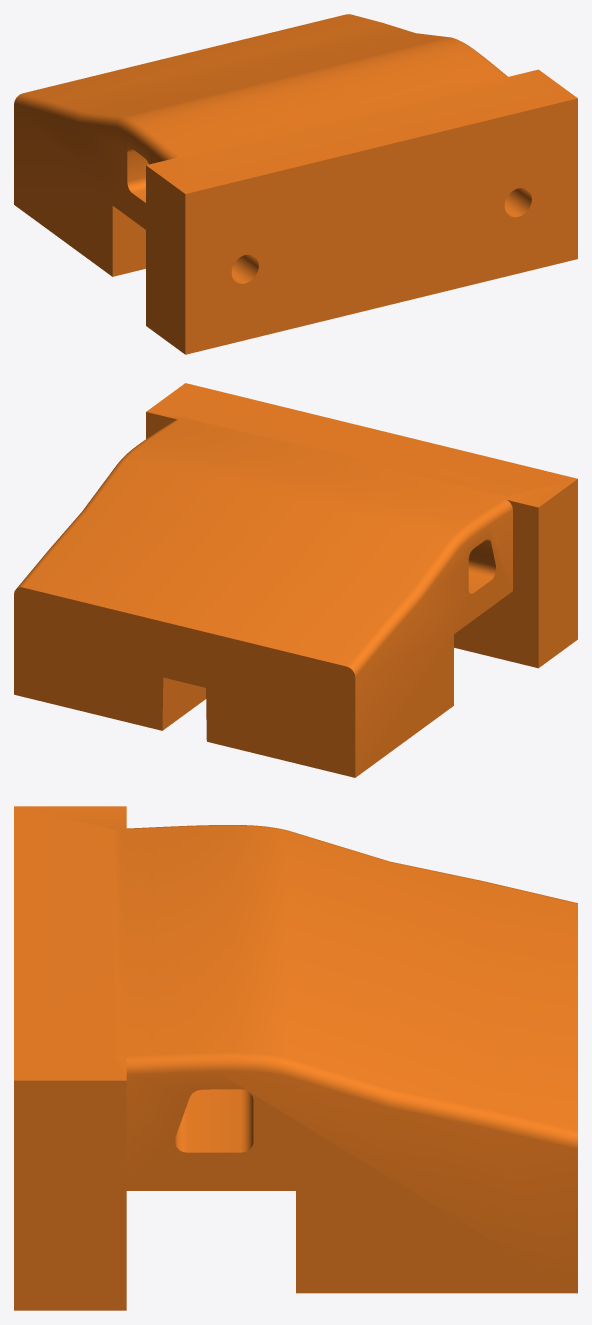
3 views of the same model, one above another, from view 1: azimuth 30°, elevation 25°; view 2: azimuth 150°, elevation 25°; view 3: azimuth 270°, elevation 25° (orthographic). The views are drawn at different scales.
Visible parts, largest first — view 1: finger_left; view 2: finger_left; view 3: finger_left.
Part boxes in pixels (bbox=[...]): finger_left: bbox=[14, 14, 577, 354]; finger_left: bbox=[14, 383, 577, 777]; finger_left: bbox=[14, 806, 577, 1310].
Size of the model in its own units: 0.046 by 0.0184 by 0.04.
